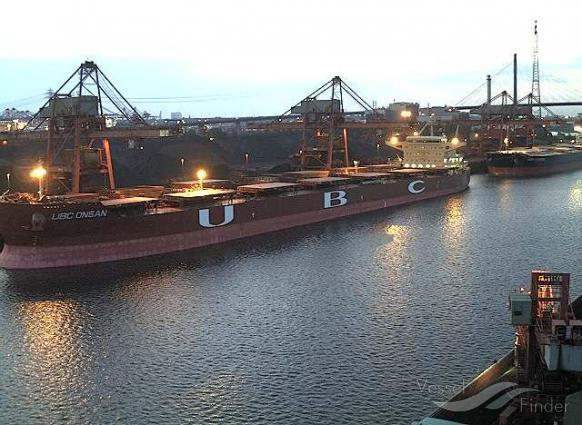OCR: (179, 178, 437, 230), (44, 208, 111, 226)
